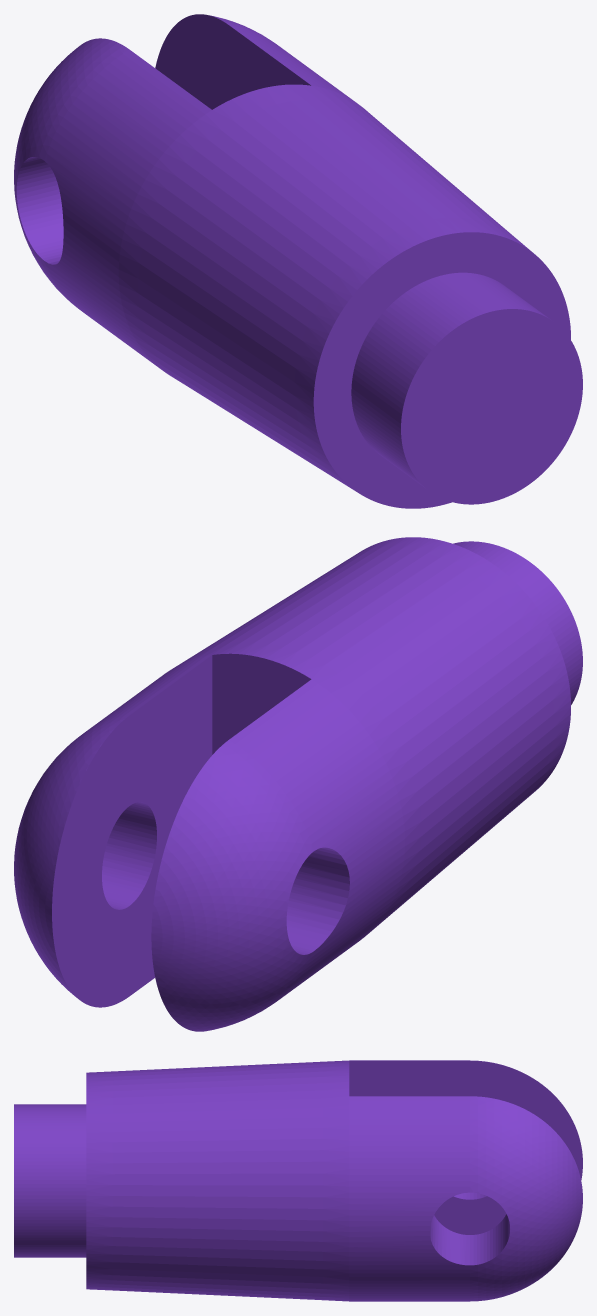
3 renders of one model, top to bottom at view 1: azimuth 30°, elevation 25°; view 2: azimuth 150°, elevation 25°; view 3: azimuth 270°, elevation 25°, orthographic. The views are drawn at different scales.
Visible parts, largest first — view 1: node; view 2: node; view 3: node.
Part boxes in pixels (x1,y1,x2,y2): node: [14, 14, 582, 508]; node: [14, 537, 582, 1031]; node: [14, 1060, 582, 1301].
Size of the model in its own units: 0.0687 by 0.0687 by 0.1621.
